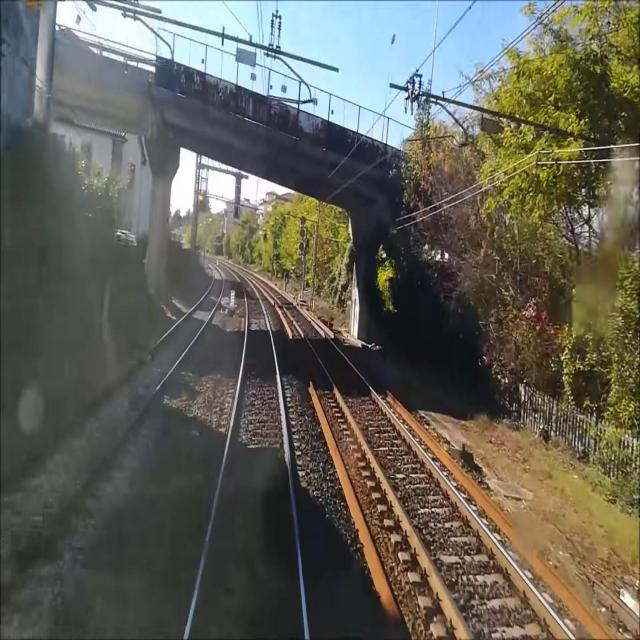rail-track: (256, 277, 569, 639), (0, 265, 222, 573), (188, 268, 304, 639)
